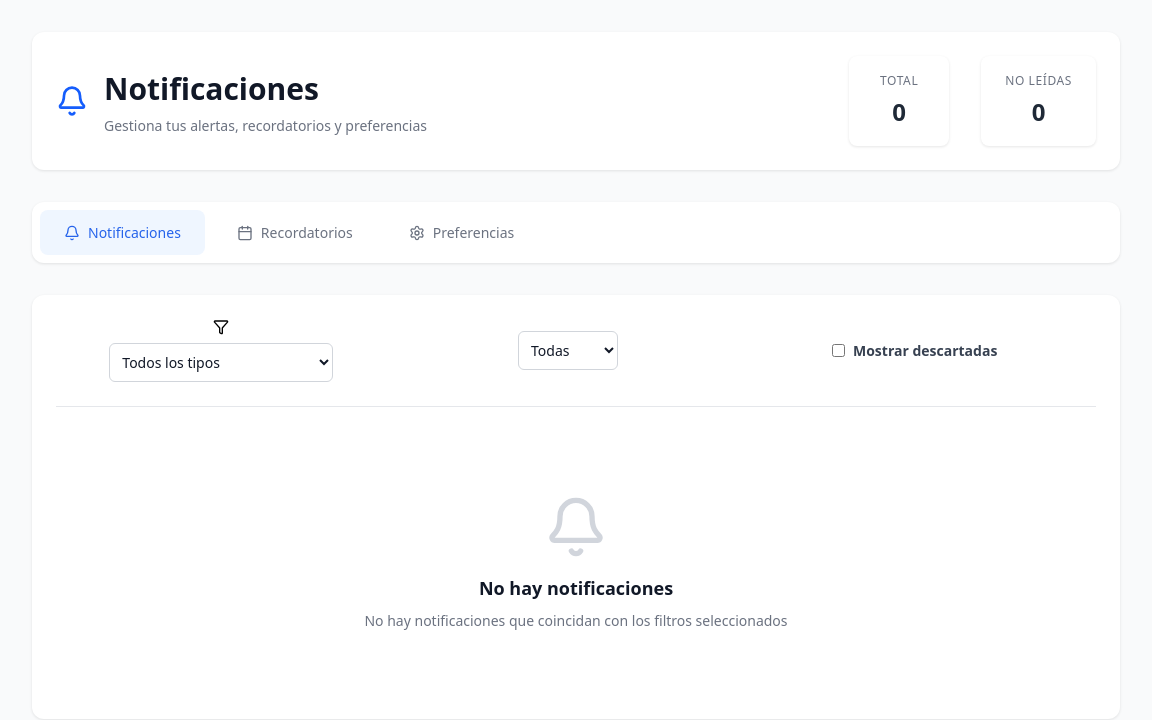
Test: Notifications Page › debe cambiar a la pestaña de recordatorios
Click the button "Recordatorios" at {"x": 295, "y": 232}, box [213, 210, 377, 255]
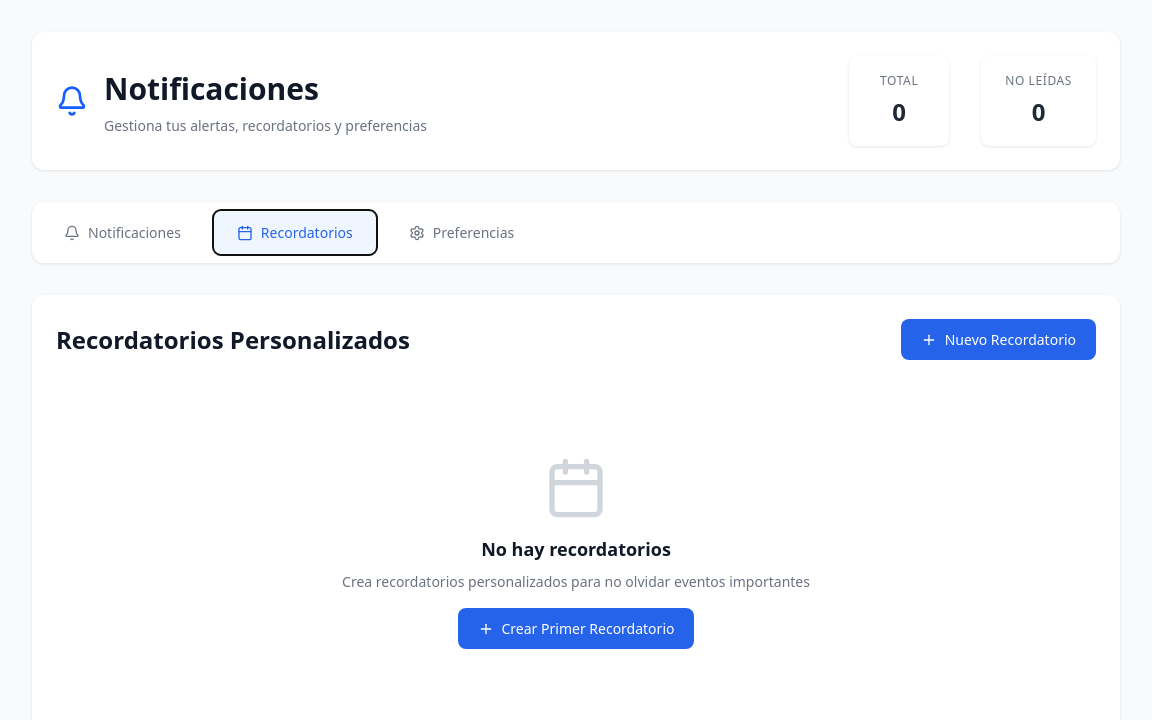
Expected: the heading "Recordatorios Personalizados" is shown, [56, 322, 410, 358]
